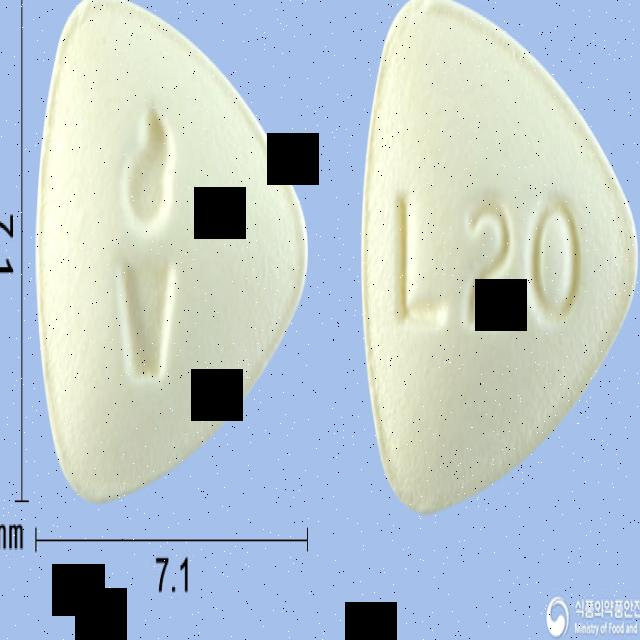Leflu - 10mg: (361, 0, 640, 516), (33, 0, 310, 504)
